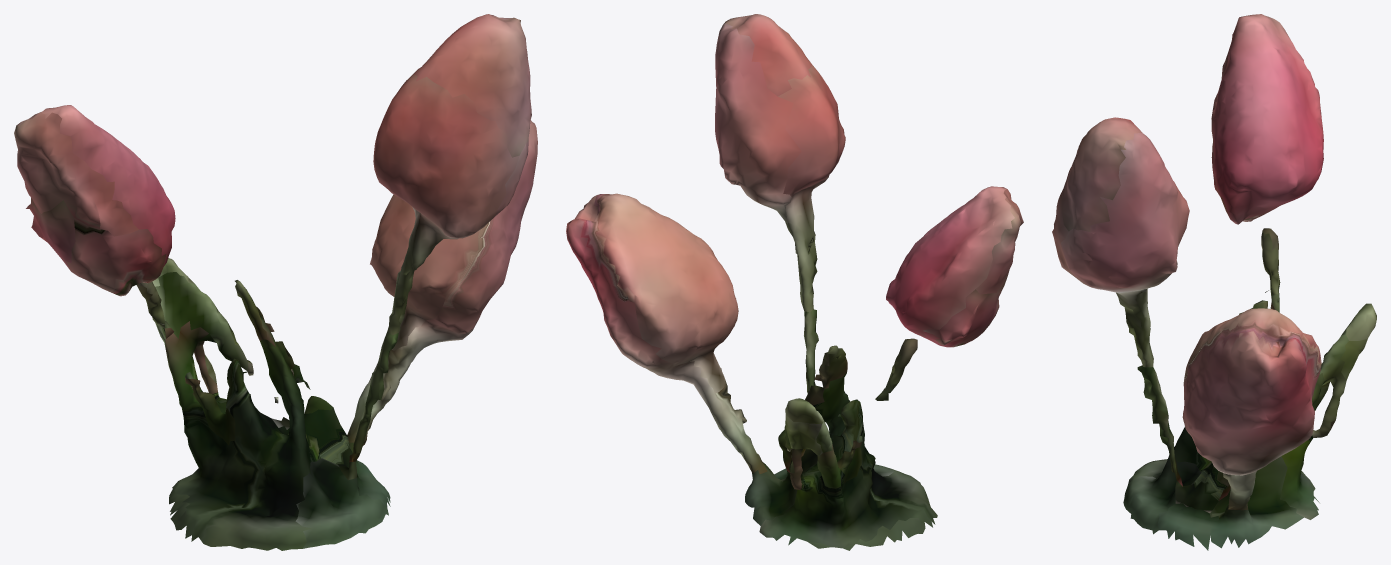
The picture shows the model from 3 angles, left to right: view 1: azimuth 30°, elevation 25°; view 2: azimuth 150°, elevation 25°; view 3: azimuth 270°, elevation 25°; orthographic projection. The views are drawn at different scales.
Parts seen in each view (by area): view 1: 978b674a; view 2: 978b674a; view 3: 978b674a.
Part boxes in pixels (x1,y1,x2,y2): 978b674a: (14,14,537,550); 978b674a: (566,14,1023,550); 978b674a: (1052,14,1376,550).
Size of the model in its own units: 0.1614 by 0.1485 by 0.0962.
Materials: 1 (1 with a texture image).
